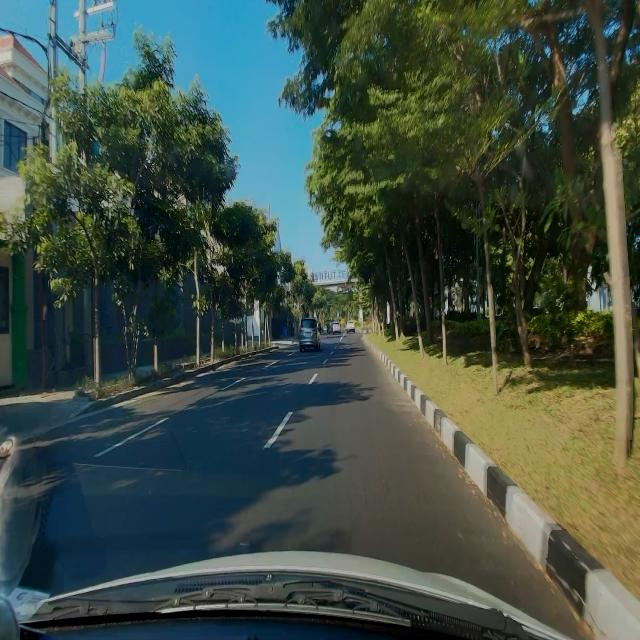car: (298, 317, 321, 355)
